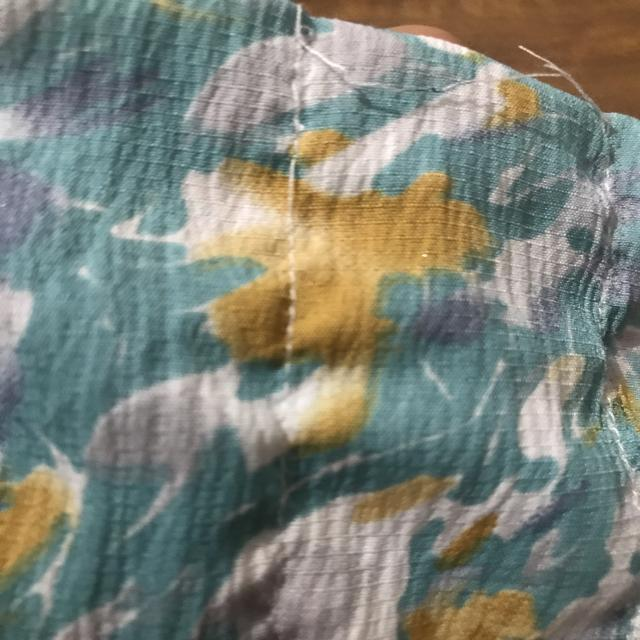skip: (262, 150, 314, 226)
